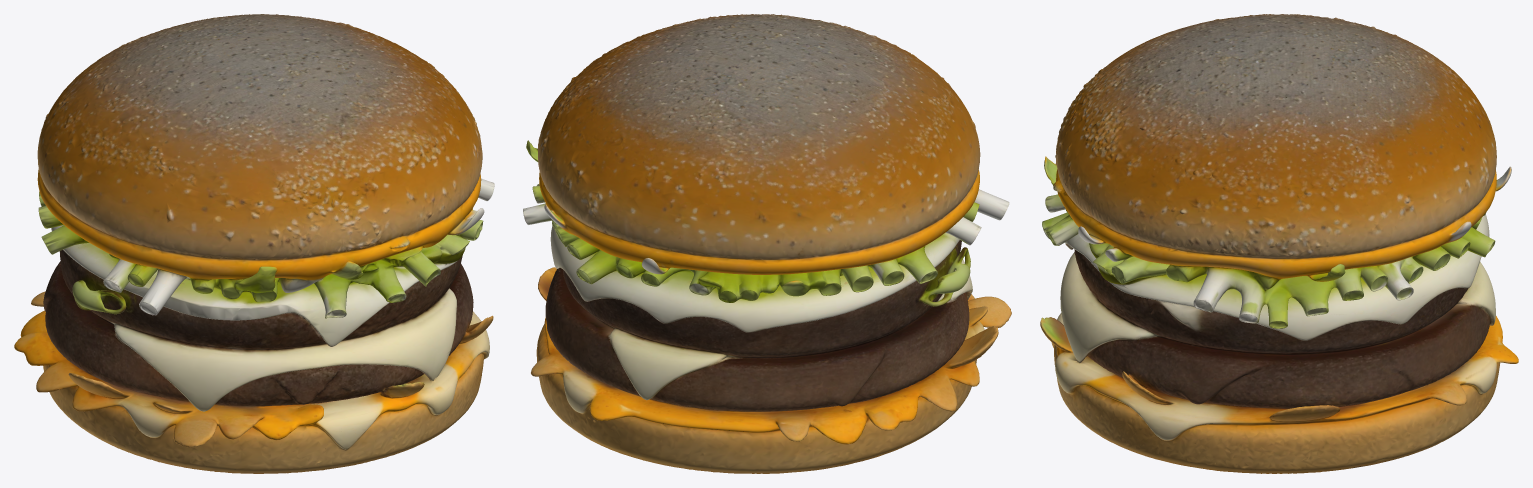
Rendered from burger-complete.glb.
3 views of the same model, side by side, from view 1: azimuth 30°, elevation 25°; view 2: azimuth 150°, elevation 25°; view 3: azimuth 270°, elevation 25° (orthographic).
Visible parts, largest first — view 1: node_0; view 2: node_0; view 3: node_0.
Boxes of the visible parts, x1,y1,x2,y2 form: node_0: [14, 14, 494, 473]; node_0: [523, 14, 1011, 473]; node_0: [1040, 14, 1518, 473].
Size of the model in its own units: 1.6 by 1.23 by 1.59.
1 material, 1 textured.
